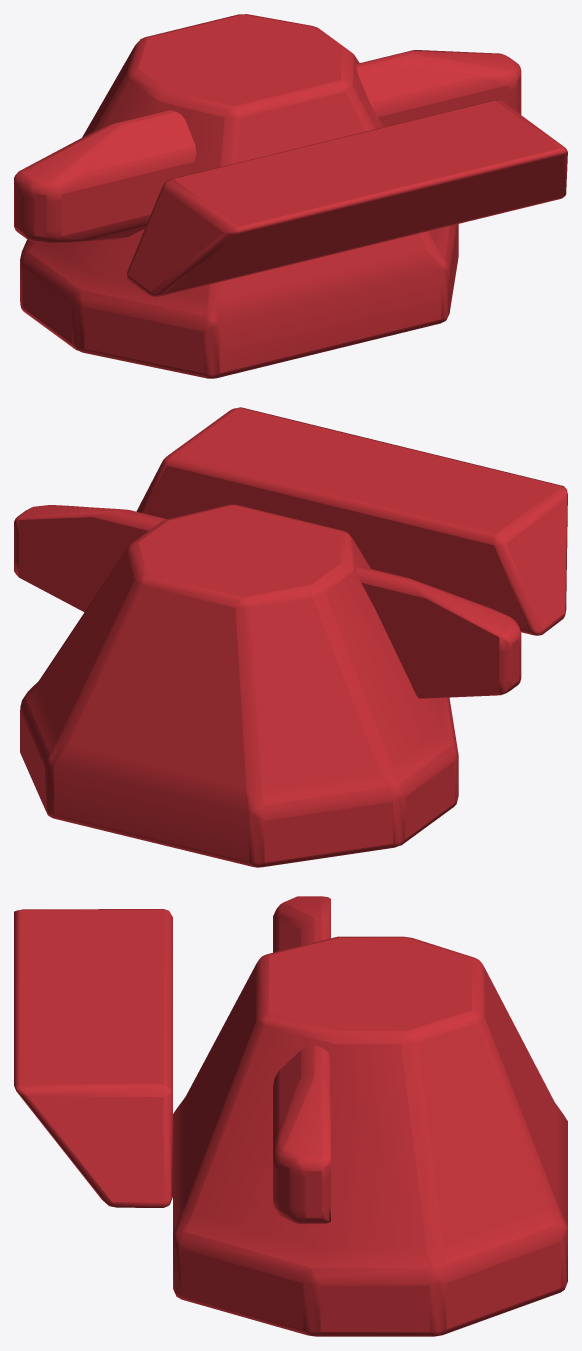
Rendered from AnimalHeadBack_Set02_Bastion.fbx.
3 renders of one model, top to bottom at view 1: azimuth 30°, elevation 25°; view 2: azimuth 150°, elevation 25°; view 3: azimuth 270°, elevation 25°, orthographic. The views are drawn at different scales.
Visible parts, largest first — view 1: AnimalHeadBack_Set02_Bastion; view 2: AnimalHeadBack_Set02_Bastion; view 3: AnimalHeadBack_Set02_Bastion.
Boxes of the visible parts, bbox=[...] form: AnimalHeadBack_Set02_Bastion: bbox=[14, 14, 567, 378]; AnimalHeadBack_Set02_Bastion: bbox=[14, 407, 567, 867]; AnimalHeadBack_Set02_Bastion: bbox=[14, 896, 567, 1336].
Size of the model in its own units: 0.546 by 0.24 by 0.4768.
